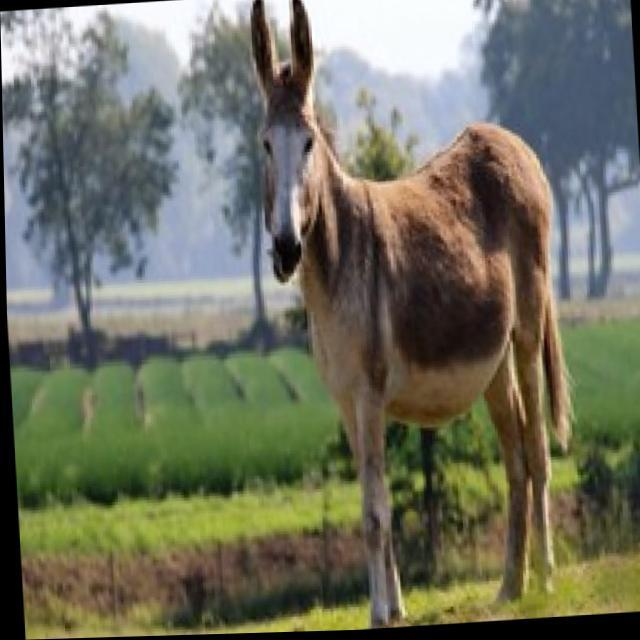Donkey: (246, 0, 585, 633)
